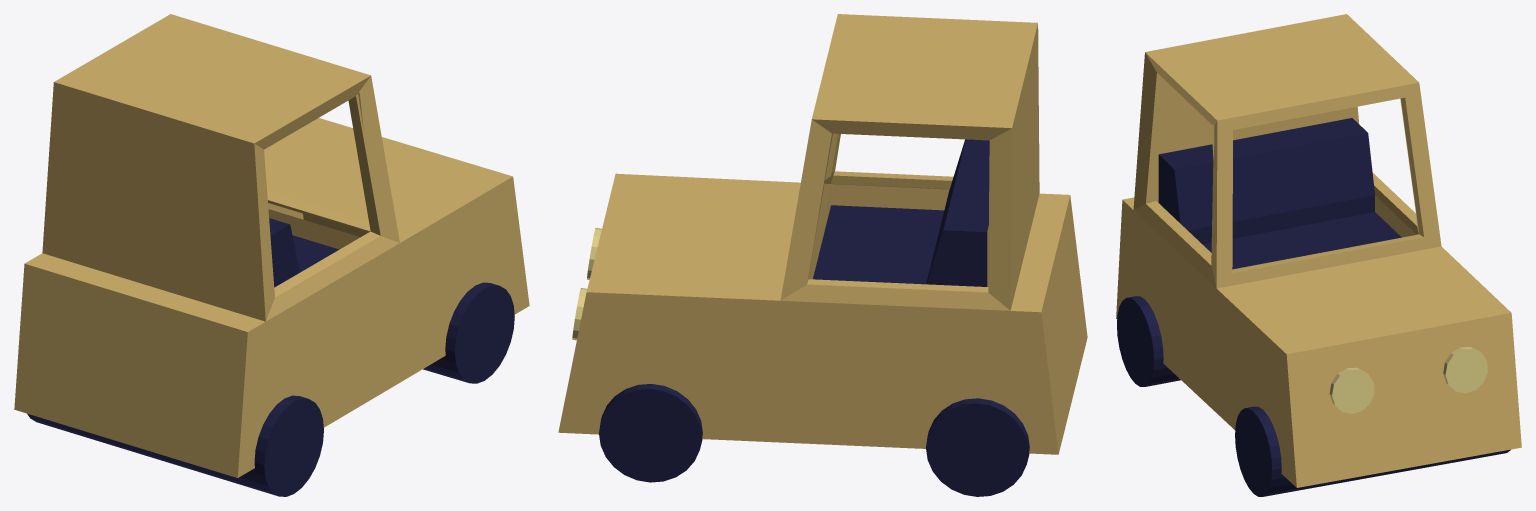
The model's file is yellow_car.fbx.
The picture shows the model from 3 angles, left to right: view 1: azimuth 30°, elevation 25°; view 2: azimuth 150°, elevation 25°; view 3: azimuth 270°, elevation 25°; orthographic projection. The views are drawn at different scales.
Visible parts, largest first — view 1: yellow_car; view 2: yellow_car; view 3: yellow_car.
Part boxes in pixels (x1,y1,x2,y2): yellow_car: (14, 14, 529, 496); yellow_car: (558, 14, 1087, 496); yellow_car: (1116, 14, 1521, 496).
Bounding box in the file's own units: 159 × 110 × 127.
